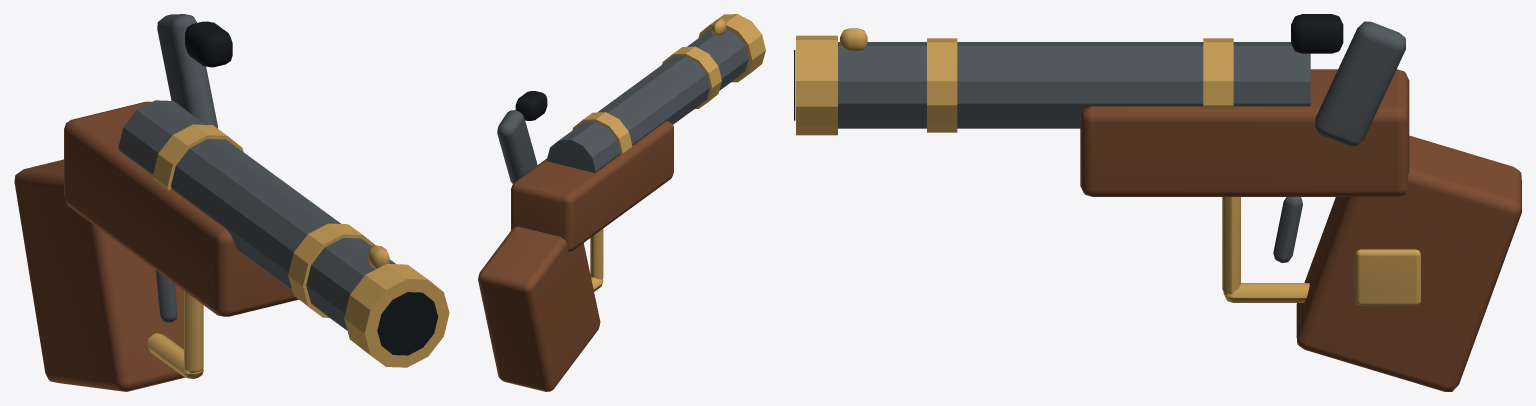
File: escama-pistol.glb
3 views of the same model, side by side, from view 1: azimuth 30°, elevation 25°; view 2: azimuth 150°, elevation 25°; view 3: azimuth 270°, elevation 25° (orthographic). The views are drawn at different scales.
Parts seen in each view (by area): view 1: Coronha, Platina, Cano octogonal, Boca de latão, Cão de pederneira, Boca escura, Abraçadeira.001, Abraçadeira, Pedra do cão, Guarda-mato, Guarda-mato.001, Gatilho (+1 smaller); view 2: Coronha, Platina, Cano octogonal, Cão de pederneira, Boca de latão, Abraçadeira.001, Abraçadeira, Pedra do cão, Guarda-mato; view 3: Coronha, Cano octogonal, Platina, Cão de pederneira, Boca de latão, Medalhão Escama, Abraçadeira.001, Abraçadeira, Pedra do cão, Guarda-mato, Guarda-mato.001, Gatilho.
Boxes of the visible parts, x1,y1,x2,y2 form: Coronha: (14, 159, 184, 391); Platina: (64, 101, 298, 316); Cano octogonal: (118, 100, 396, 330); Boca de latão: (344, 264, 449, 367); Cão de pederneira: (157, 14, 217, 128); Boca escura: (377, 292, 438, 355); Abraçadeira.001: (288, 223, 375, 317); Abraçadeira: (152, 124, 243, 190); Pedra do cão: (185, 21, 232, 67); Guarda-mato: (184, 291, 203, 373); Guarda-mato.001: (147, 333, 203, 378); Gatilho: (155, 270, 177, 322); Coronha: (478, 226, 600, 391); Platina: (511, 121, 673, 251); Cano octogonal: (547, 28, 748, 172); Cão de pederneira: (497, 110, 537, 183); Boca de latão: (698, 14, 765, 82); Abraçadeira.001: (662, 46, 721, 108); Abraçadeira: (572, 112, 632, 155); Pedra do cão: (515, 91, 547, 120); Guarda-mato: (590, 229, 603, 280); Coronha: (1296, 135, 1521, 391); Cano octogonal: (838, 42, 1310, 128); Platina: (1080, 69, 1409, 196); Cão de pederneira: (1315, 21, 1405, 146); Boca de latão: (796, 35, 837, 135); Medalhão Escama: (1355, 249, 1420, 305); Abraçadeira.001: (927, 38, 957, 132); Abraçadeira: (1203, 38, 1233, 108); Pedra do cão: (1291, 14, 1343, 53); Guarda-mato: (1222, 197, 1240, 294); Guarda-mato.001: (1223, 283, 1309, 302); Gatilho: (1273, 197, 1302, 262).
Bounding box in the file's own units: 0.1075 × 0.3243 × 0.5531.
